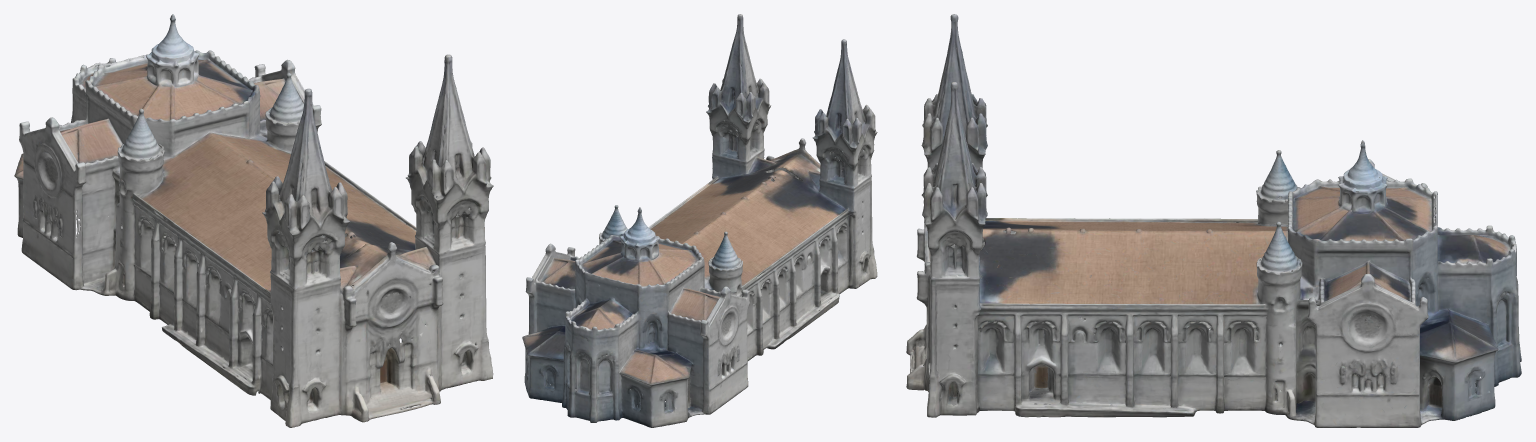
Rendered from basilique.glb.
3 renders of one model, left to right at view 1: azimuth 30°, elevation 25°; view 2: azimuth 150°, elevation 25°; view 3: azimuth 270°, elevation 25°, orthographic. The views are drawn at different scales.
Visible parts, largest first — view 1: geometry_0; view 2: geometry_0; view 3: geometry_0.
Boxes of the visible parts, left/top/right/bottom form: geometry_0: left=14, top=14, right=493, bottom=427; geometry_0: left=522, top=14, right=877, bottom=427; geometry_0: left=906, top=14, right=1521, bottom=427.
Bounding box in the file's own units: 0.462 × 0.5785 × 0.9994.
Materials: 1 (1 with a texture image).
